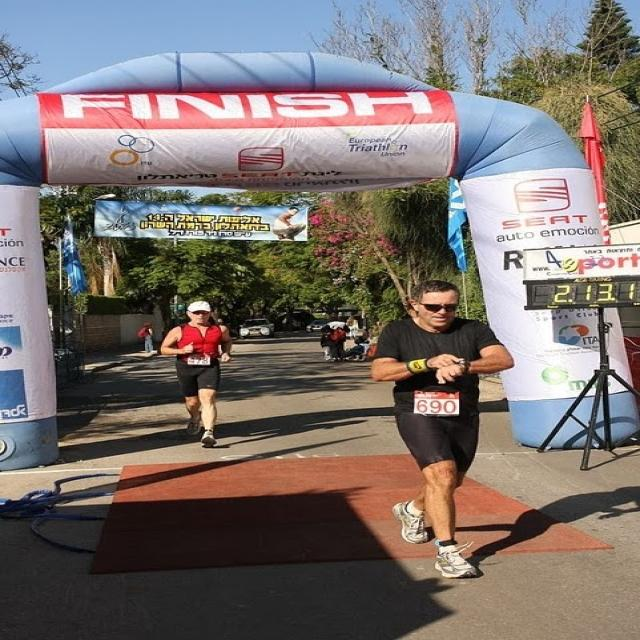Bib: (416, 399, 458, 414)
